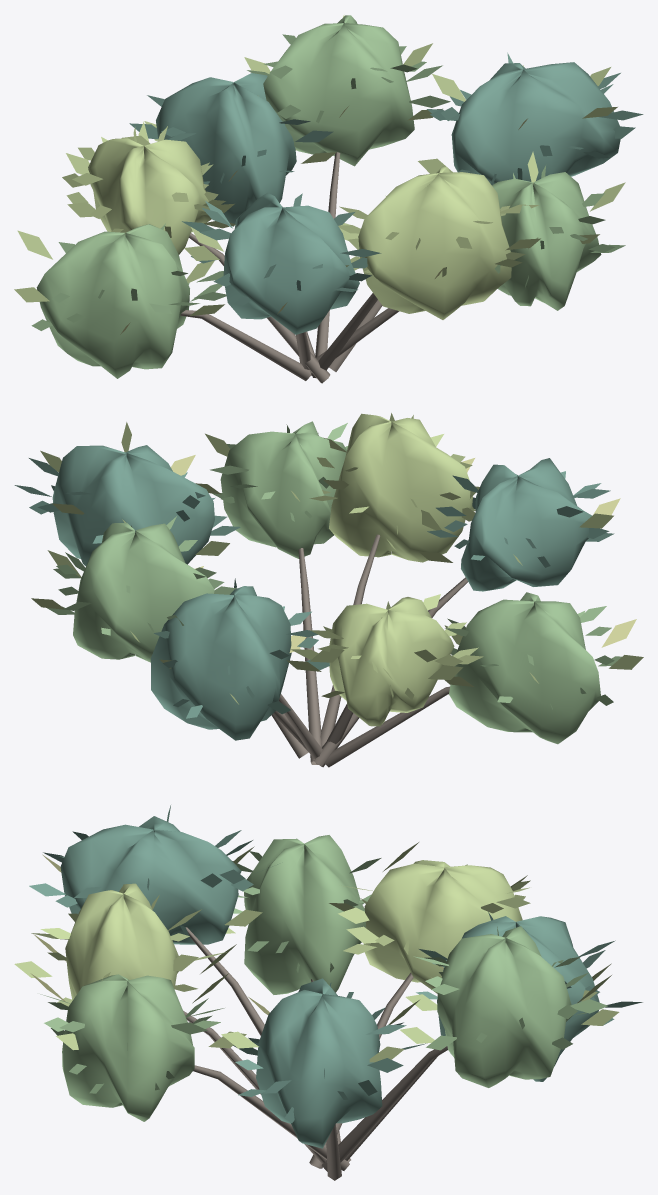
Rendered from bush_wide.glb.
3 views of the same model, one above another, from view 1: azimuth 30°, elevation 25°; view 2: azimuth 150°, elevation 25°; view 3: azimuth 270°, elevation 25° (orthographic). The views are drawn at different scales.
Visible parts, largest first — view 1: bush_wide; view 2: bush_wide; view 3: bush_wide.
Part boxes in pixels (<box>): bush_wide: <box>14,15,643,383</box>; bush_wide: <box>14,413,643,767</box>; bush_wide: <box>14,805,642,1180</box>.
Bounding box in the file's own units: 3.77 × 1.57 × 3.09.
